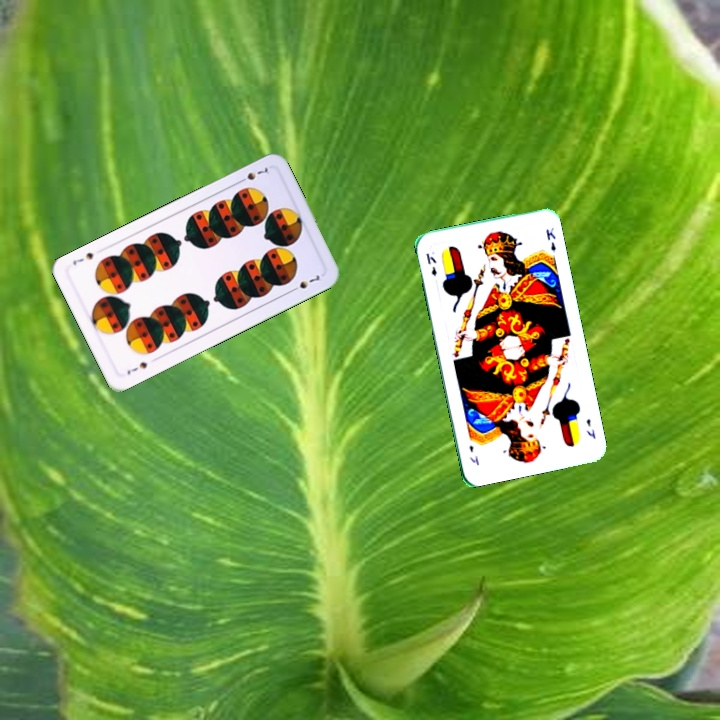EK: (422, 249, 439, 279), (582, 415, 598, 442)
S7: (234, 163, 273, 186), (123, 358, 150, 377)
